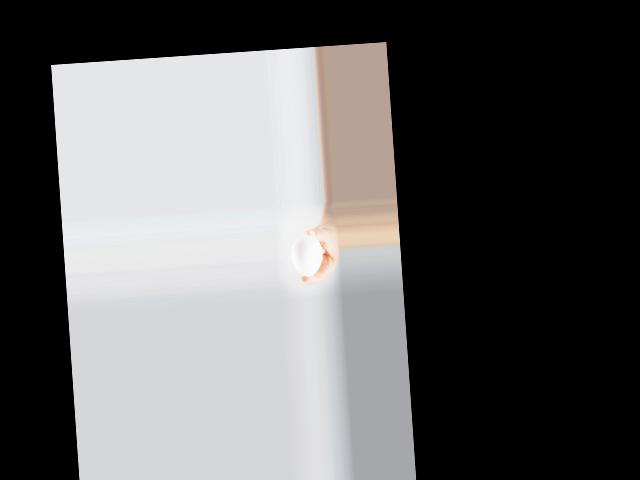egg: (290, 235, 324, 277)
